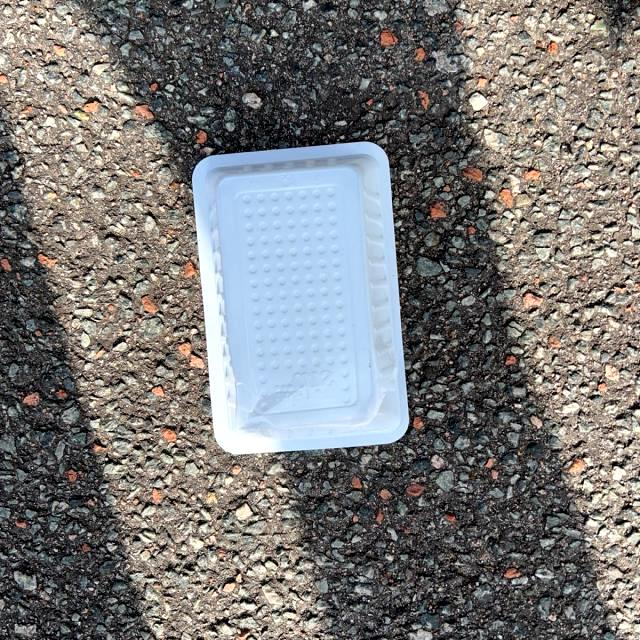Plastic: (188, 135, 410, 458)
